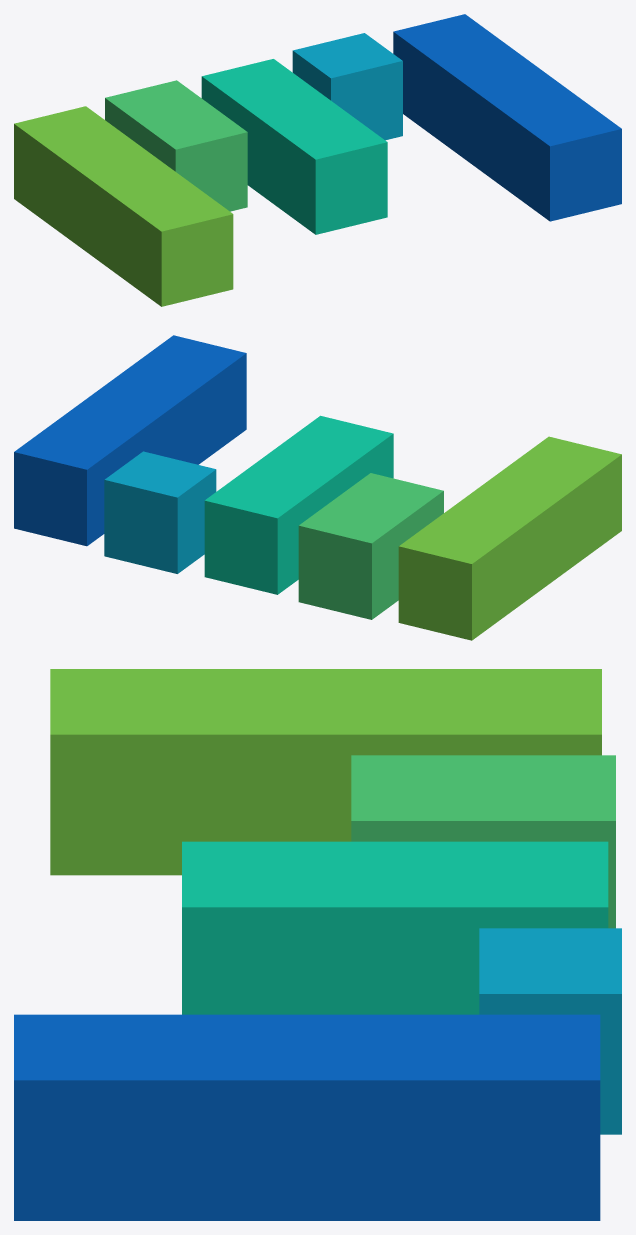
The model's file is visualize.gltf.
The picture shows the model from 3 angles, top to bottom: view 1: azimuth 30°, elevation 25°; view 2: azimuth 150°, elevation 25°; view 3: azimuth 270°, elevation 25°; orthographic projection. The views are drawn at different scales.
Visible parts, largest first — view 1: Cube.004, Cube, Cube.002, Cube.001, Cube.003; view 2: Cube, Cube.004, Cube.002, Cube.001, Cube.003; view 3: Cube.004, Cube, Cube.002, Cube.001, Cube.003.
Boxes of the visible parts, x1,y1,x2,y2 form: Cube.004: (393, 14, 621, 221); Cube: (14, 106, 233, 306); Cube.002: (201, 59, 387, 234); Cube.001: (105, 80, 247, 211); Cube.003: (292, 33, 402, 140); Cube: (398, 436, 621, 640); Cube.004: (14, 335, 246, 546); Cube.002: (204, 415, 393, 594); Cube.001: (298, 473, 443, 619); Cube.003: (104, 451, 216, 573); Cube.004: (14, 1014, 600, 1220); Cube: (50, 669, 601, 875); Cube.002: (182, 841, 608, 1014); Cube.001: (351, 755, 615, 928); Cube.003: (479, 928, 621, 1134).
Size of the model in its own units: 12.53 by 2 by 7.83.
